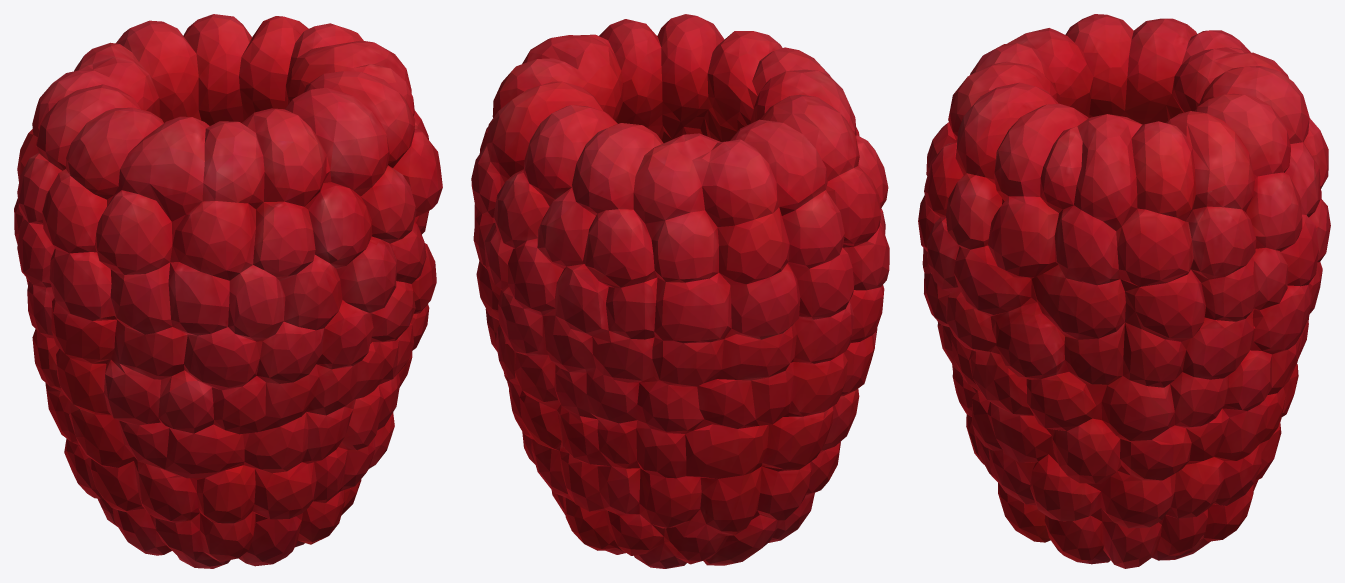
Rendered from raspberry.glb.
3 renders of one model, left to right at view 1: azimuth 30°, elevation 25°; view 2: azimuth 150°, elevation 25°; view 3: azimuth 270°, elevation 25°, orthographic.
Visible parts, largest first — view 1: geometry_0; view 2: geometry_0; view 3: geometry_0.
Boxes of the visible parts, <box> form: geometry_0: <box>14,14,442,568</box>; geometry_0: <box>471,14,889,568</box>; geometry_0: <box>918,14,1330,568</box>.
Bounding box in the file's own units: 0.4038 × 0.4964 × 0.3886.
1 material, 1 textured.
